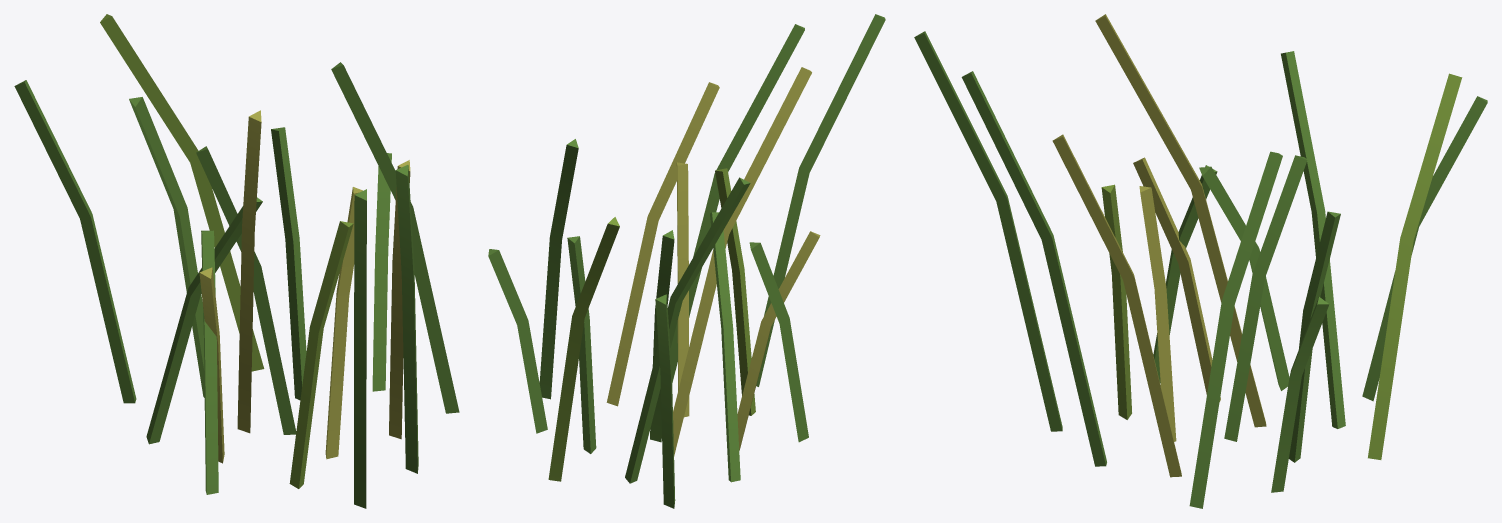
Rendered from grass_tall.glb.
3 views of the same model, side by side, from view 1: azimuth 30°, elevation 25°; view 2: azimuth 150°, elevation 25°; view 3: azimuth 270°, elevation 25° (orthographic). The views are drawn at different scales.
Visible parts, largest first — view 1: grass_tall; view 2: grass_tall; view 3: grass_tall.
Boxes of the visible parts, bbox=[...] form: grass_tall: bbox=[14, 14, 459, 508]; grass_tall: bbox=[488, 14, 885, 508]; grass_tall: bbox=[914, 14, 1487, 508].
Size of the model in its own units: 0.8957 by 1.16 by 1.59.
